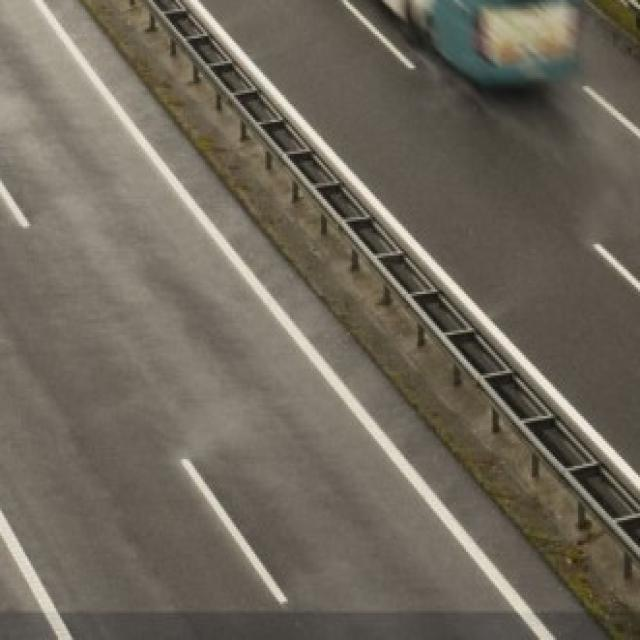bus: (278, 0, 582, 93)
